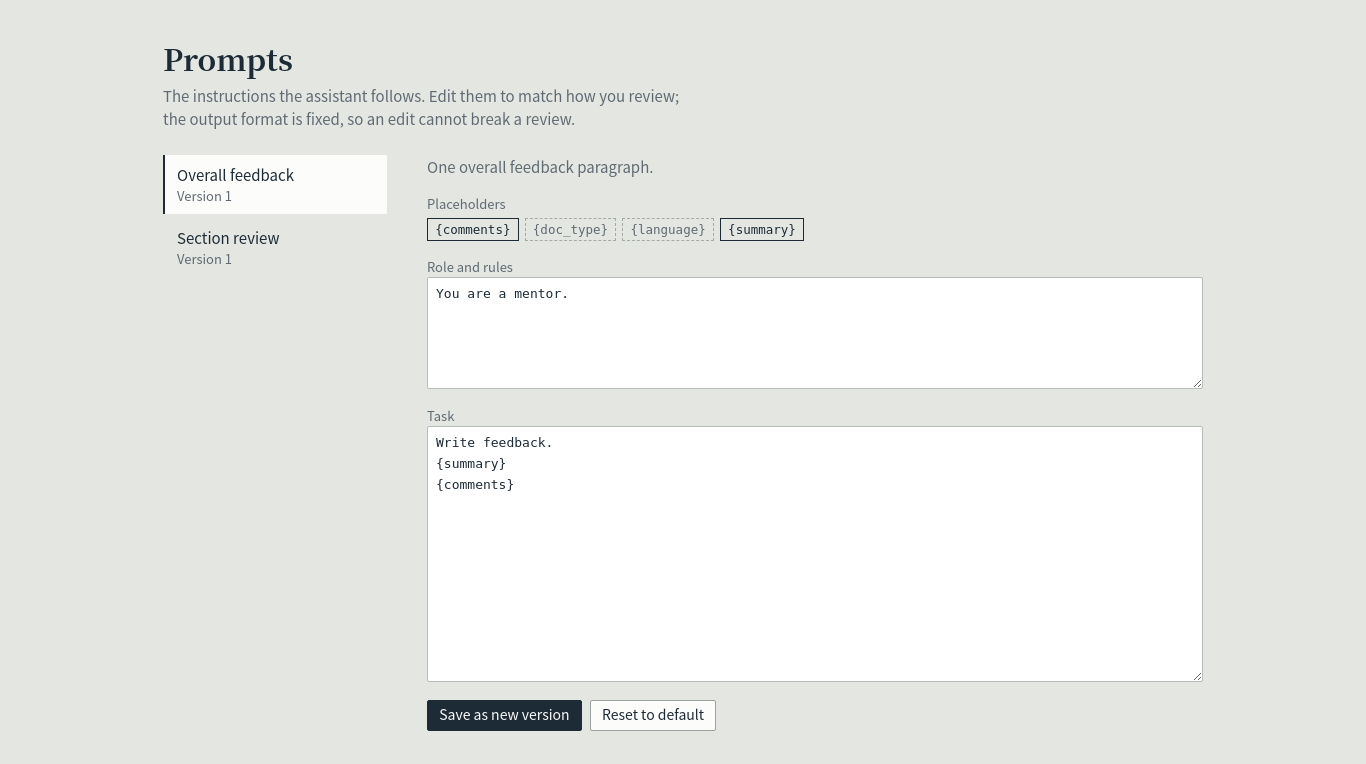
Test: server validation errors are shown inline
Check: the list item "{comments}" is shown, box left=427, top=218, right=519, bottom=241
Click the button "Save as new version".
click(504, 715)  # box left=427, top=700, right=582, bottom=731
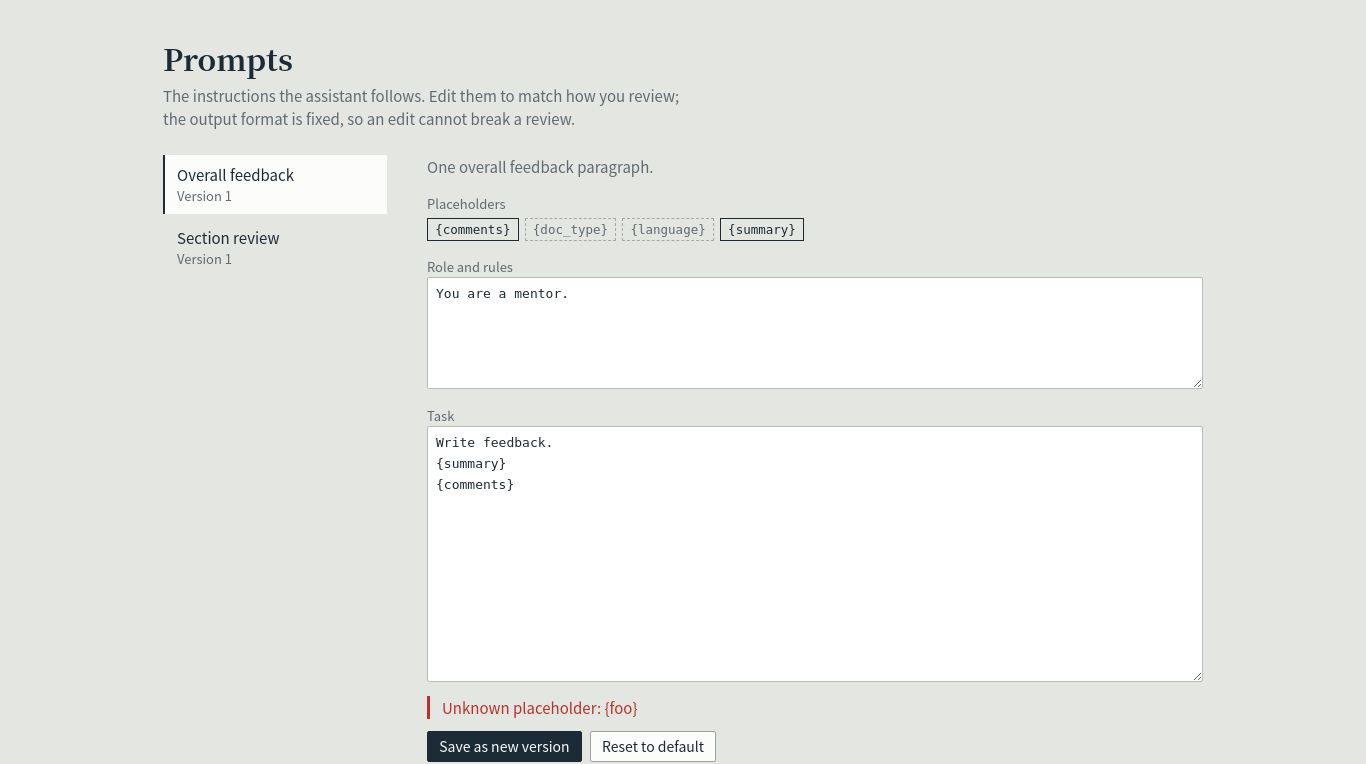
Check: the message reads "Unknown placeholder: {foo}", box left=442, top=697, right=638, bottom=718
